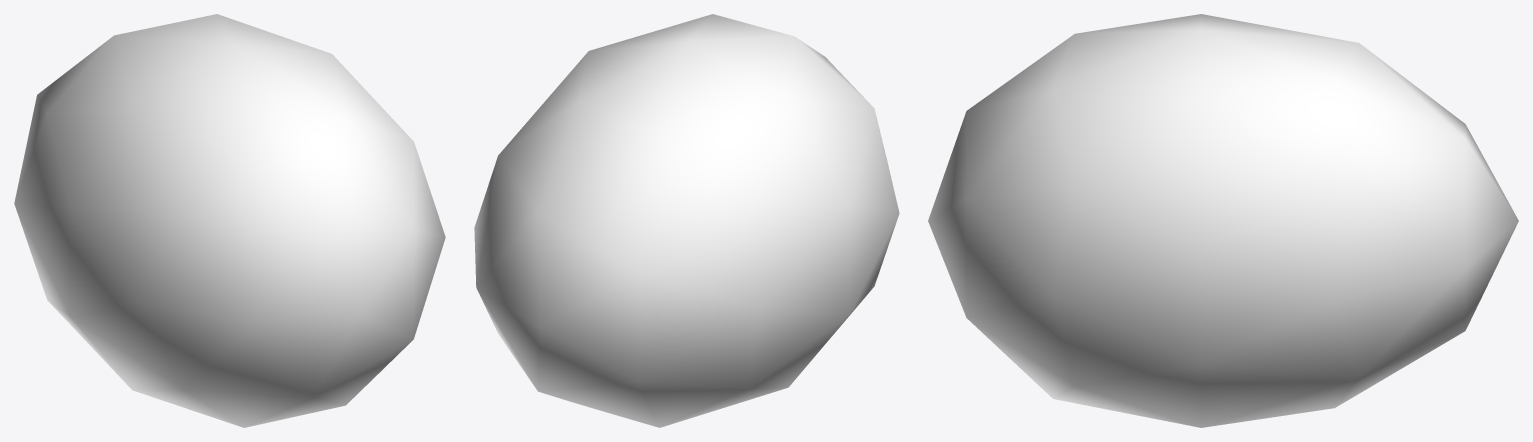
3 views of the same model, side by side, from view 1: azimuth 30°, elevation 25°; view 2: azimuth 150°, elevation 25°; view 3: azimuth 270°, elevation 25° (orthographic). The views are drawn at different scales.
Parts seen in each view (by area): view 1: 棱角球; view 2: 棱角球; view 3: 棱角球.
Boxes of the visible parts, x1,y1,x2,y2 form: 棱角球: [14, 14, 445, 427]; 棱角球: [474, 14, 899, 427]; 棱角球: [928, 14, 1518, 427].
Bounding box in the file's own units: 190 × 200 × 280.
Materials: 1 (1 with a texture image).
